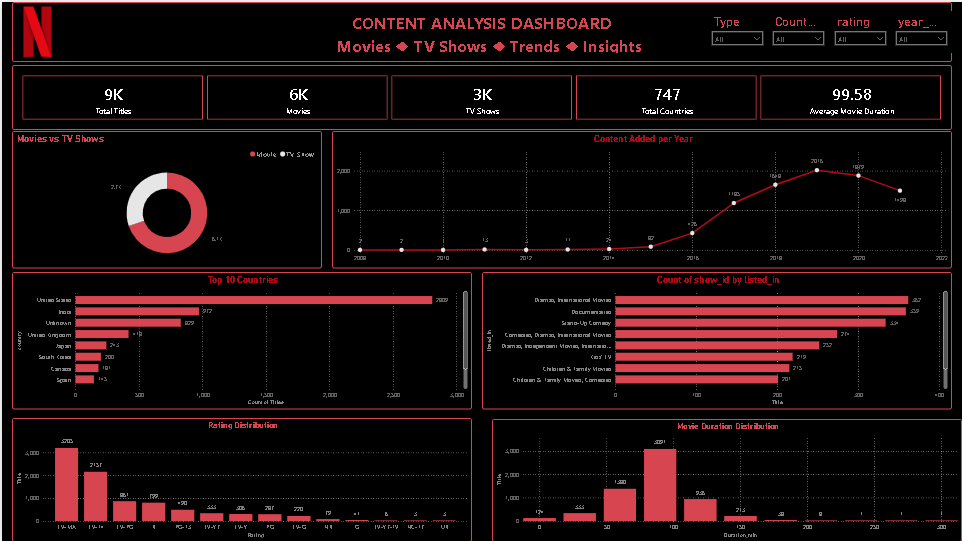

Layout of this report page (visuals, bound fields, positions):
{"tool":"powerbi","page":{"name":"Page 1","canvas":[1920,1080],"ordinal":0},"visuals":[{"type":"textbox","box":[20.2,0,1880,120],"z":0},{"type":"cardVisual","fields":{"Data":["netflix_cleaned.Total Titles","netflix_cleaned.Movies","netflix_cleaned.TV Shows","netflix_cleaned.Total Countries","netflix_cleaned.Average Movie Duration"]},"box":[20,126.7,1880,130],"z":1000},{"type":"donutChart","title":"Movies vs TV Shows","fields":{"Y":["CountNonNull(netflix_cleaned.type)"],"Category":["netflix_cleaned.type"]},"box":[20.2,257,619.8,275],"z":2000},{"type":"lineChart","title":"Content Added per Year","fields":{"Category":["netflix_cleaned.year_added"],"Y":["CountNonNull(netflix_cleaned.show_id)"]},"box":[660.2,257,1240,275],"z":3000},{"type":"clusteredBarChart","title":"Top 10 Countries","fields":{"Category":["netflix_cleaned.country"],"Y":["CountNonNull(netflix_cleaned.show_id)"]},"box":[20,540,920,275],"z":4000},{"type":"clusteredBarChart","fields":{"Category":["netflix_cleaned.listed_in"],"Y":["CountNonNull(netflix_cleaned.show_id)"]},"box":[960,540,940,275],"z":5000},{"type":"clusteredColumnChart","title":"Rating Distribution","fields":{"Category":["netflix_cleaned.rating"],"Y":["CountNonNull(netflix_cleaned.show_id)"]},"box":[20,832.5,920,248],"z":6000},{"type":"clusteredColumnChart","title":"Movie Duration Distribution","fields":{"Category":["netflix_cleaned.duration_min (bins)"],"Y":["CountNonNull(netflix_cleaned.show_id)"]},"box":[980,834,940,246],"z":7000},{"type":"slicer","fields":{"Values":["netflix_cleaned.type"]},"box":[1410,17.5,122,84],"z":8000},{"type":"slicer","fields":{"Values":["netflix_cleaned.rating"]},"box":[1655,17.5,122,84],"z":9000},{"type":"slicer","fields":{"Values":["netflix_cleaned.year_added"]},"box":[1777.5,17.5,122,84],"z":10000},{"type":"slicer","fields":{"Values":["netflix_cleaned.country"]},"box":[1532.5,17.5,122,84],"z":11000},{"type":"image","box":[20,0,102,120],"z":11001}]}

Visuals, with their boxes in screenshot pixels (x1, y1, x2, y2), scaled from the page's 1920x1080 canvas onto the 962x541 screenshot:
textbox: detection(10, 0, 952, 60)
cardVisual - netflix_cleaned.Total Titles x netflix_cleaned.Movies: detection(10, 63, 952, 129)
"Movies vs TV Shows" donutChart: detection(10, 129, 321, 266)
"Content Added per Year" lineChart: detection(331, 129, 952, 266)
"Top 10 Countries" clusteredBarChart: detection(10, 270, 471, 408)
clusteredBarChart - netflix_cleaned.listed_in x CountNonNull(netflix_cleaned.show_id): detection(481, 270, 952, 408)
"Rating Distribution" clusteredColumnChart: detection(10, 417, 471, 540)
"Movie Duration Distribution" clusteredColumnChart: detection(491, 418, 961, 540)
slicer - netflix_cleaned.type: detection(706, 9, 768, 51)
slicer - netflix_cleaned.rating: detection(829, 9, 890, 51)
slicer - netflix_cleaned.year_added: detection(891, 9, 952, 51)
slicer - netflix_cleaned.country: detection(768, 9, 829, 51)
image: detection(10, 0, 61, 60)
